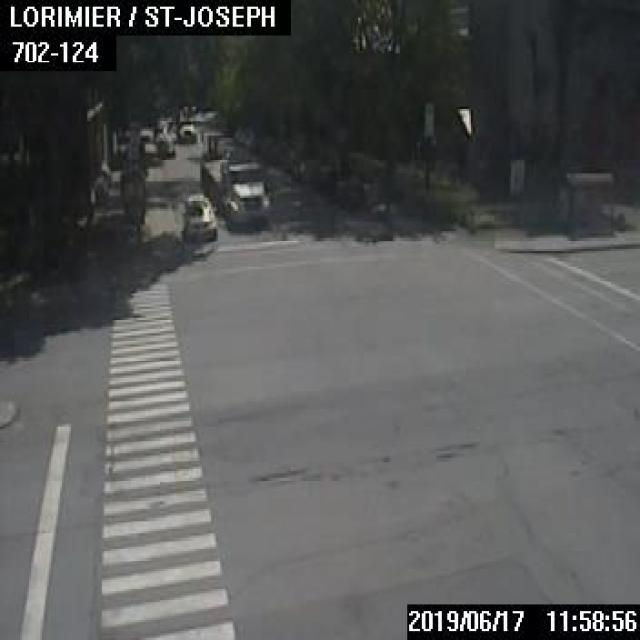vehicle: (198, 130, 272, 226), (179, 193, 217, 240), (175, 116, 196, 140)
